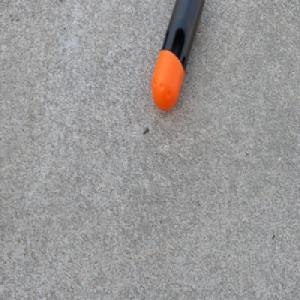PlasticPart: (149, 0, 205, 116)
